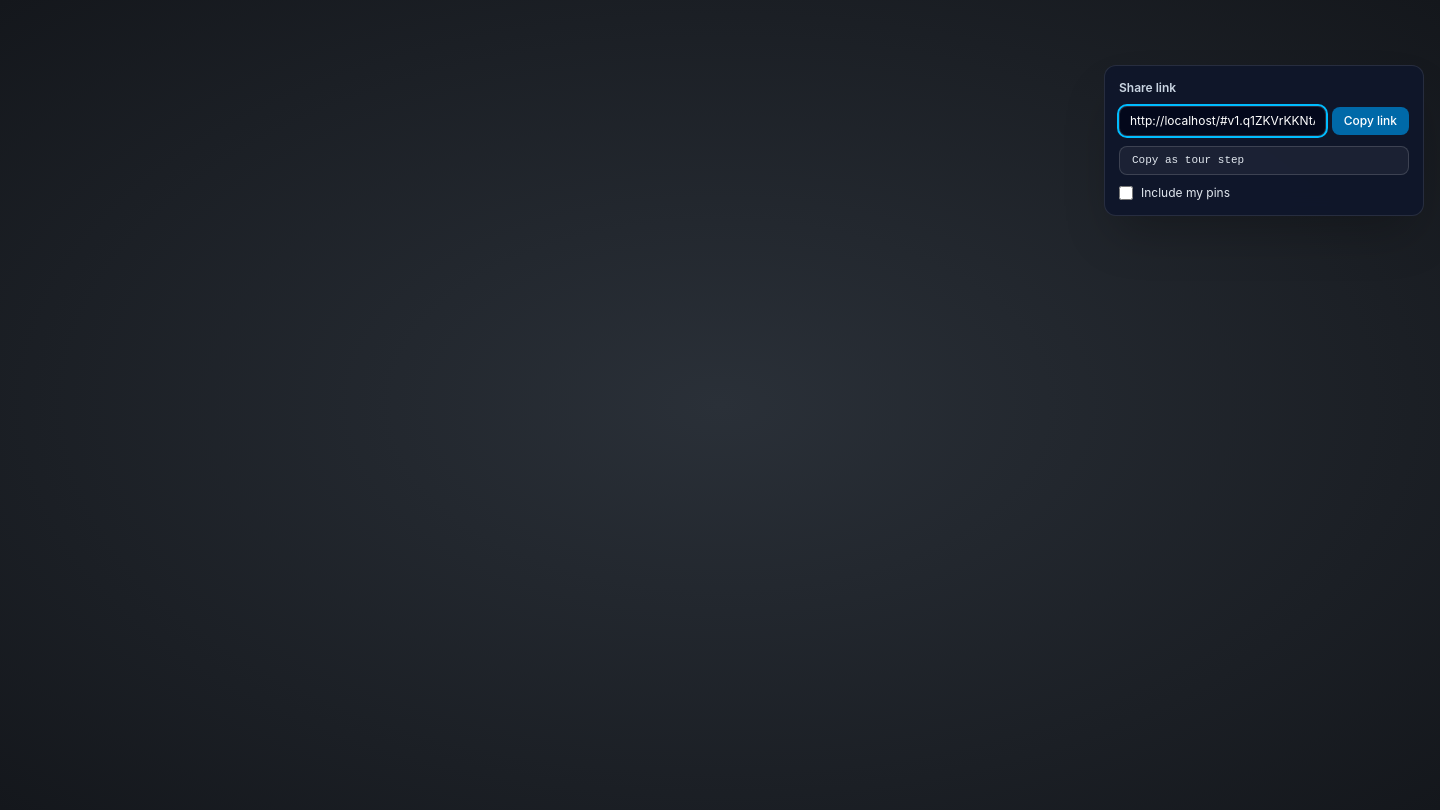
Scenario: SharePopover › generates share link and copies via clipboard
What coordinates should you click on to do the following:
click the button "Copy link"
I would click on:
 (1370, 121)
Its box is left=1332, top=107, right=1409, bottom=135.
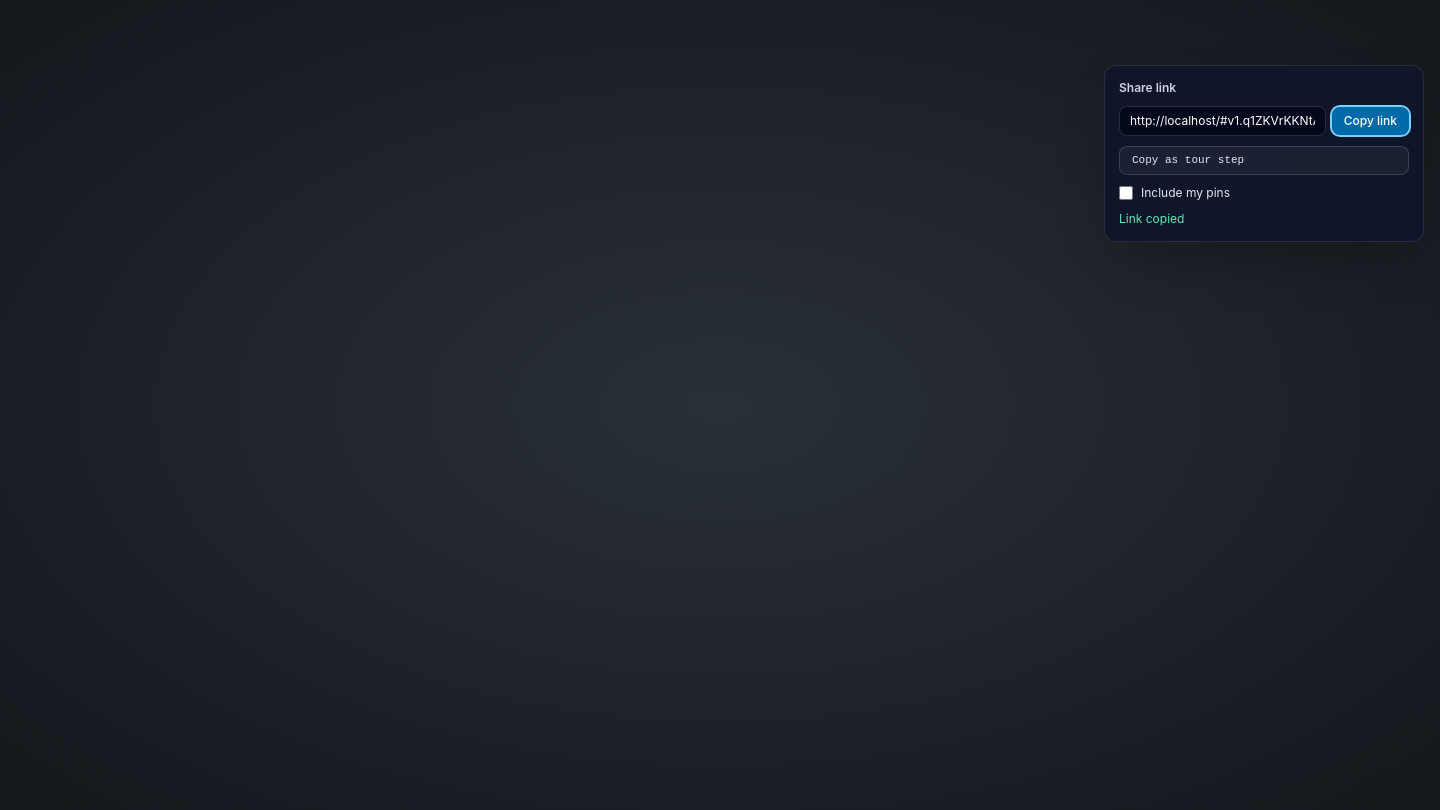
Now the text "Link copied" is shown, box left=1119, top=211, right=1184, bottom=226
